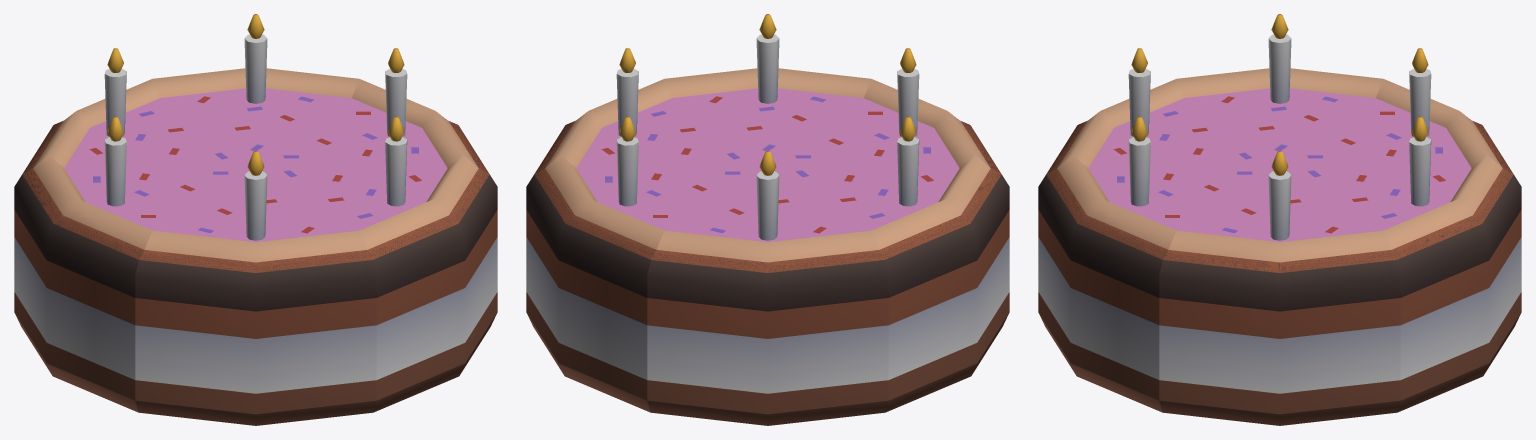
Rendered from birthday-cake.glb.
3 views of the same model, side by side, from view 1: azimuth 30°, elevation 25°; view 2: azimuth 150°, elevation 25°; view 3: azimuth 270°, elevation 25° (orthographic).
Visible parts, largest first — view 1: birthday-cake; view 2: birthday-cake; view 3: birthday-cake.
Part boxes in pixels (left/top/right/bottom): birthday-cake: left=14, top=14, right=497, bottom=425; birthday-cake: left=526, top=14, right=1009, bottom=425; birthday-cake: left=1038, top=14, right=1521, bottom=425.
Bounding box in the file's own units: 0.52 × 0.2959 × 0.52.
